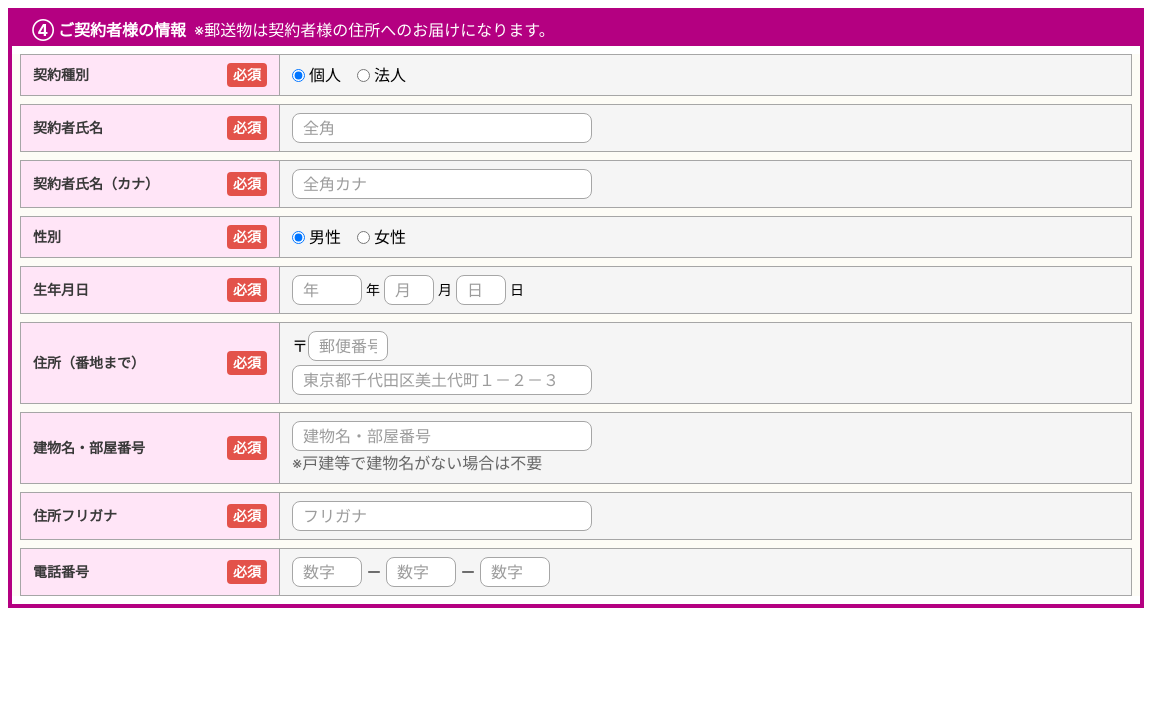
ContractorInfoSection コンポーネント › 法人選択時に法人フィールドが表示されること
Click the radio button labelled "法人": coordinates (364, 75) [357,68,370,82]
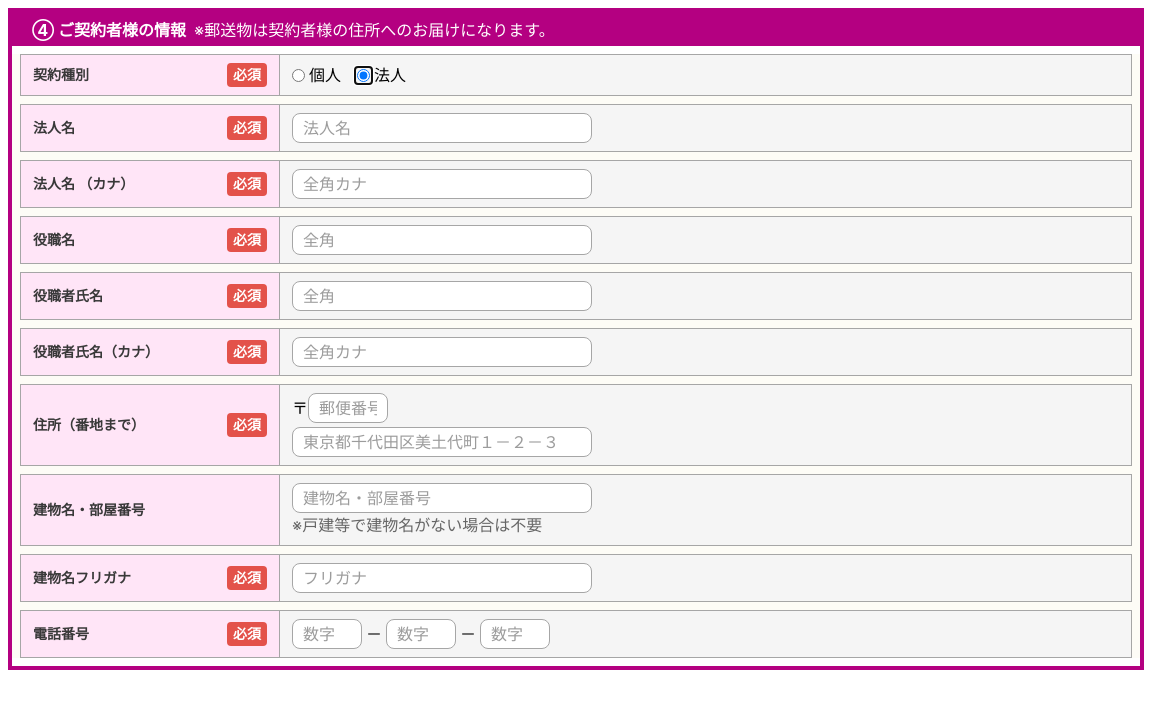
Expected: the field with placeholder "法人名" is shown, [292,113,592,143]
